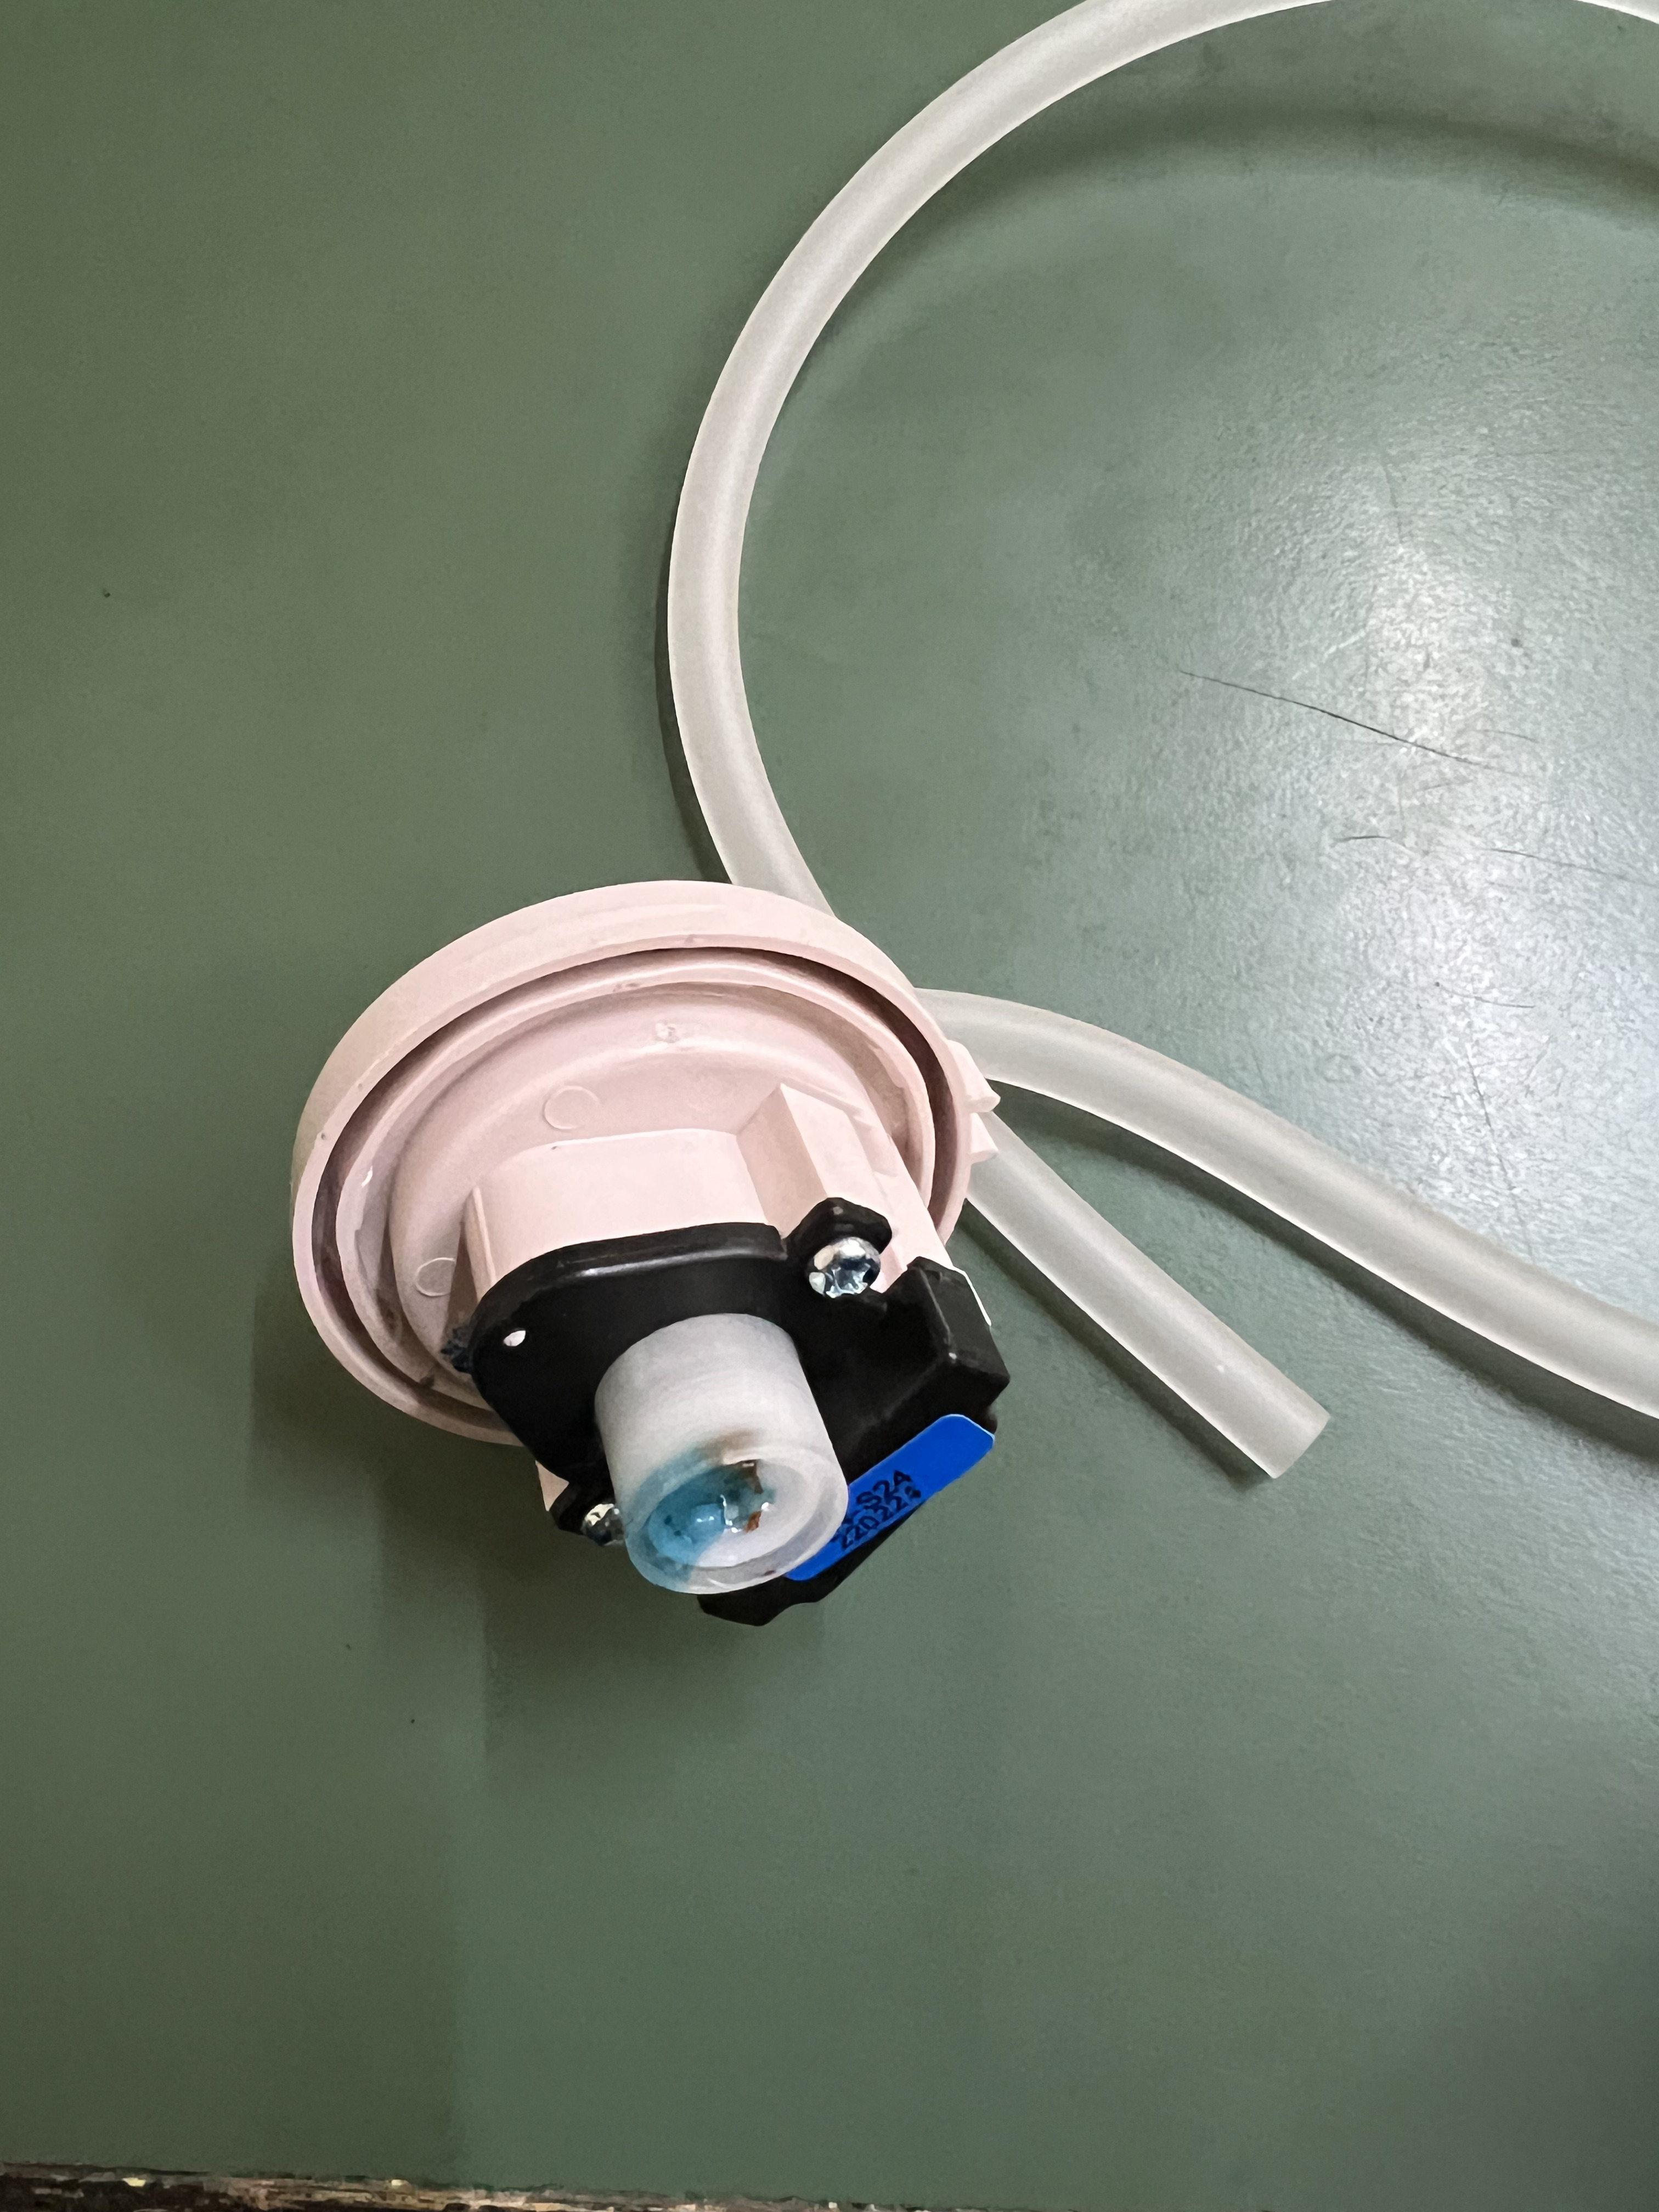pressure_sensor: (301, 857, 1012, 1628)
